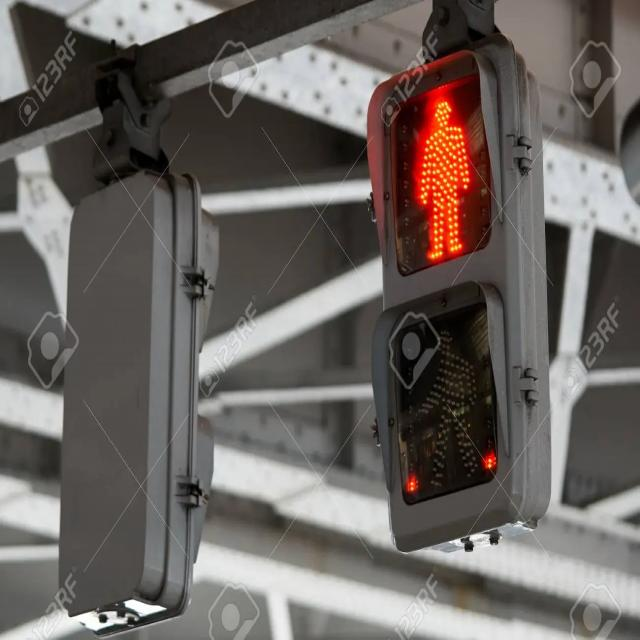Not go: (367, 89, 523, 261)
